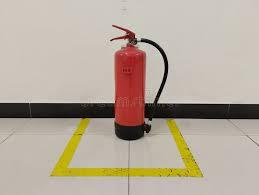floor-kept: (95, 17, 179, 154)
